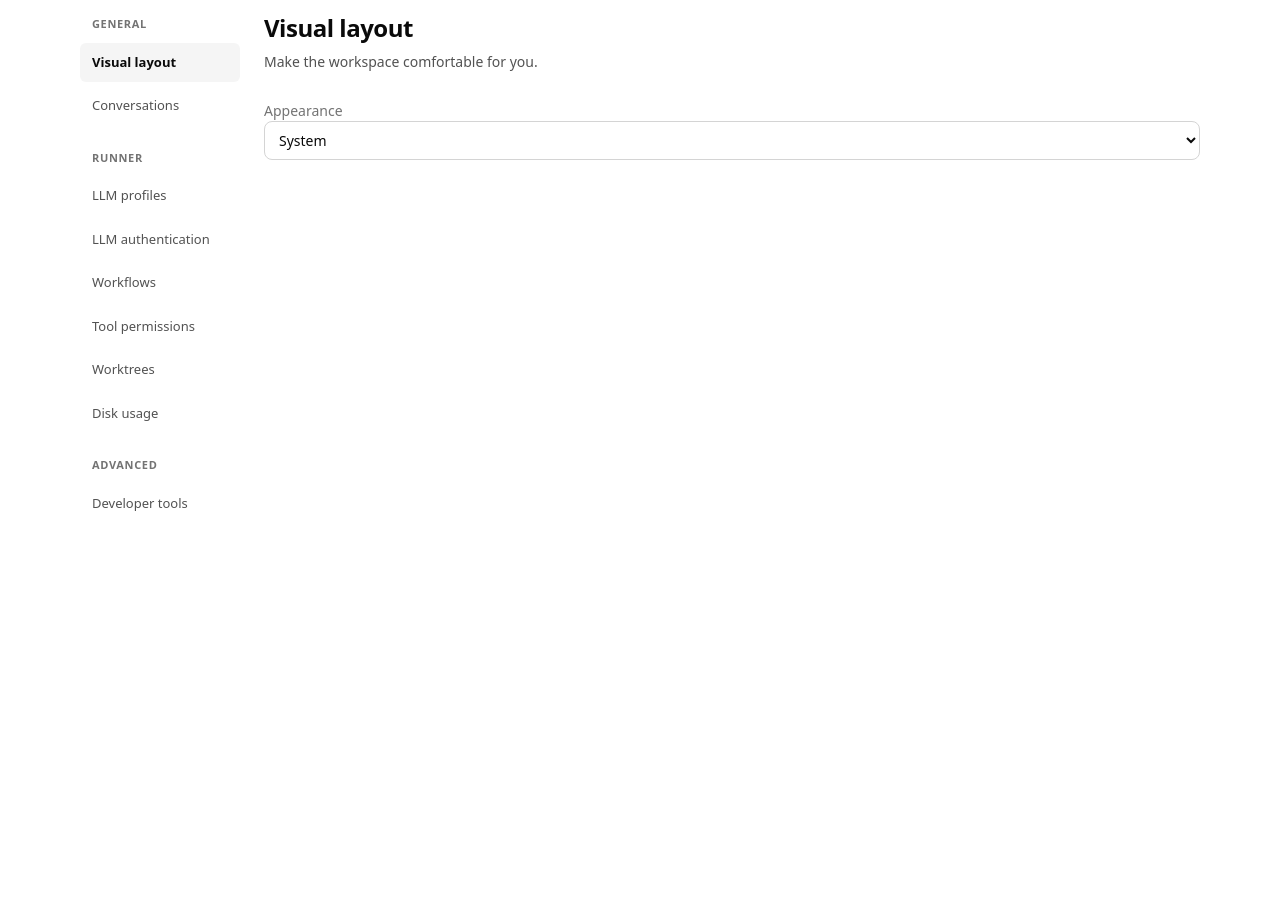
Test: provider controls are absent even for legacy snapshots
This screenshot has width=1280, height=912.
Click the button "LLM profiles".
click(160, 196)  # box x1=80 y1=176 x2=240 y2=216
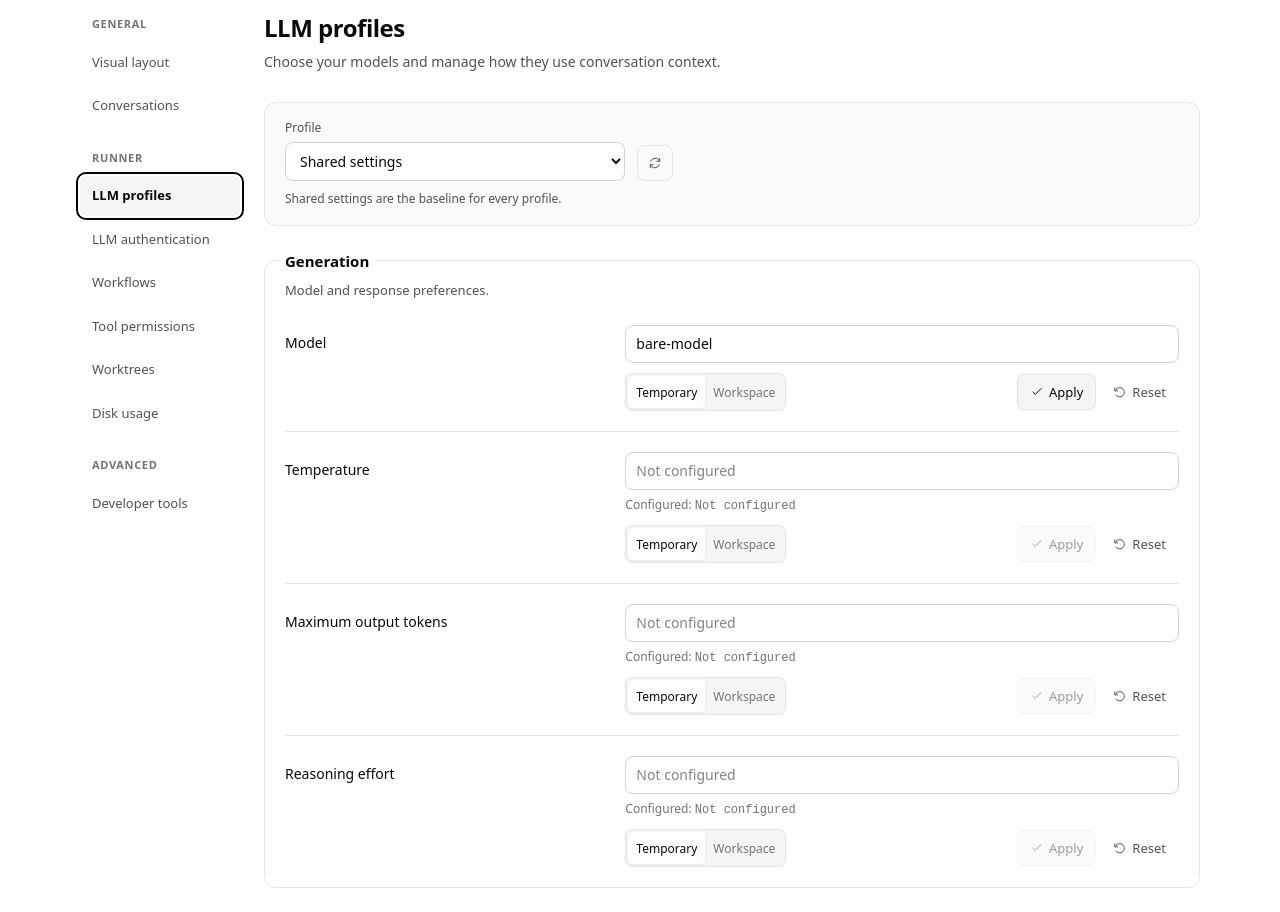
Check: the form named "Edit Model" is shown, box x1=285 y1=305 x2=1179 y2=432
Check: the field labelled "Model" holds "bare-model", box x1=625 y1=325 x2=1179 y2=363
